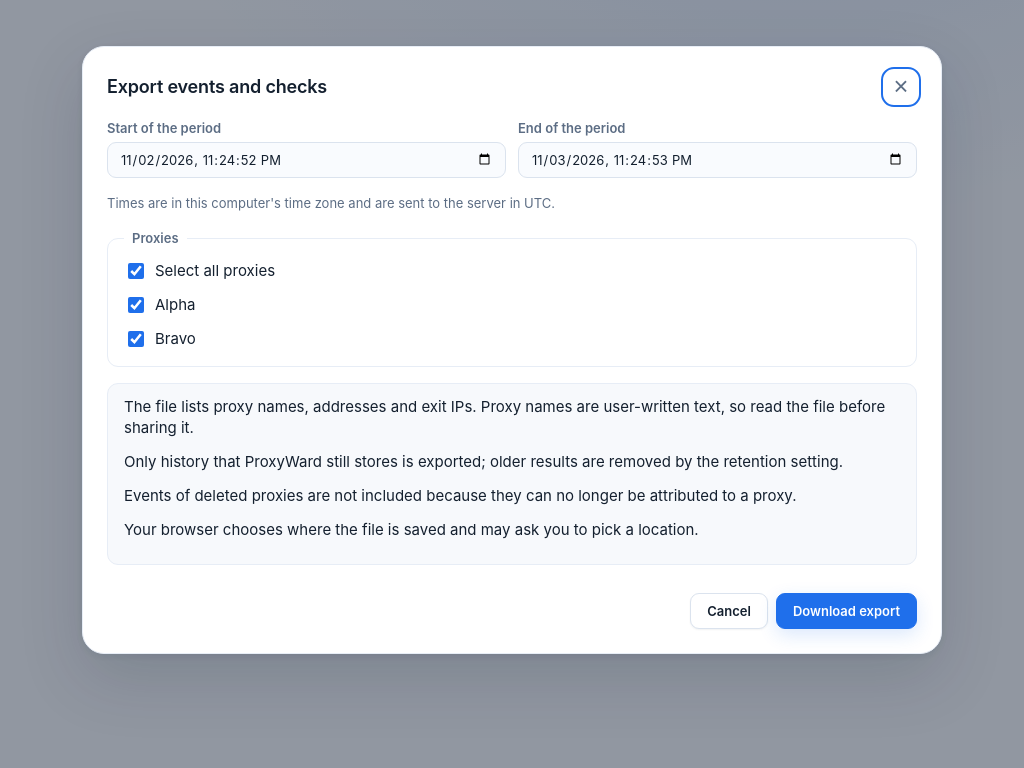
Test: ExportDialog › refuses an empty proxy selection and an invalid period
Click the checkbox labelled "Select all proxies" at [136, 271], box [128,263,144,279]
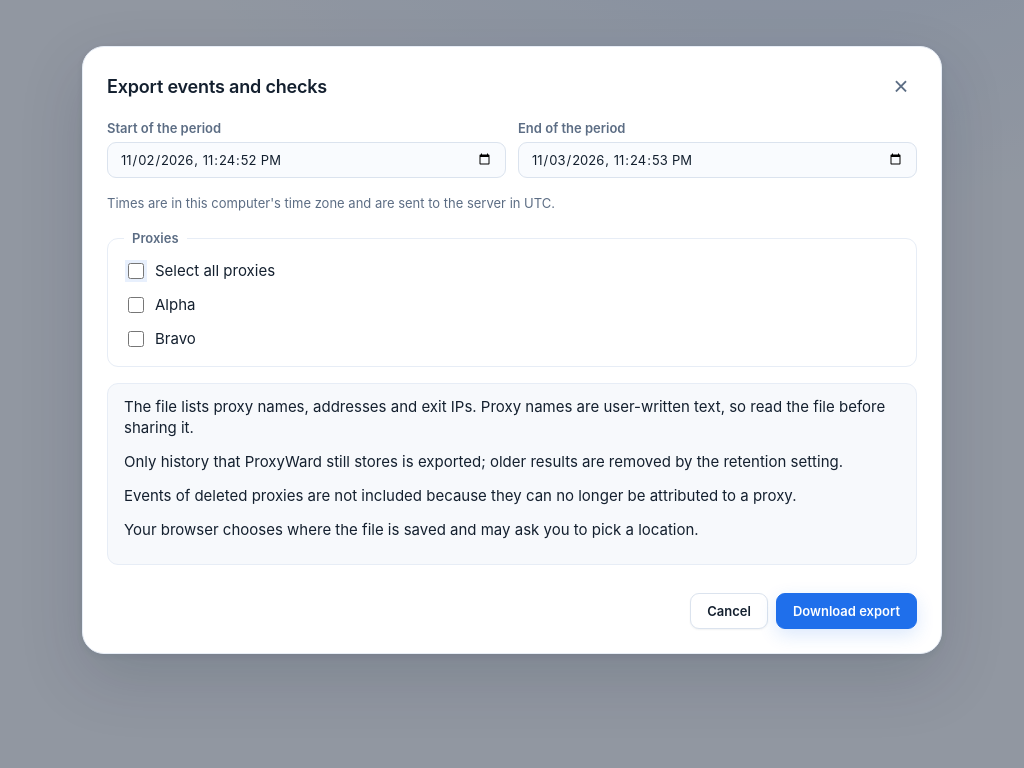
Click the button "Download export" at [846, 611], box [776,593,917,629]
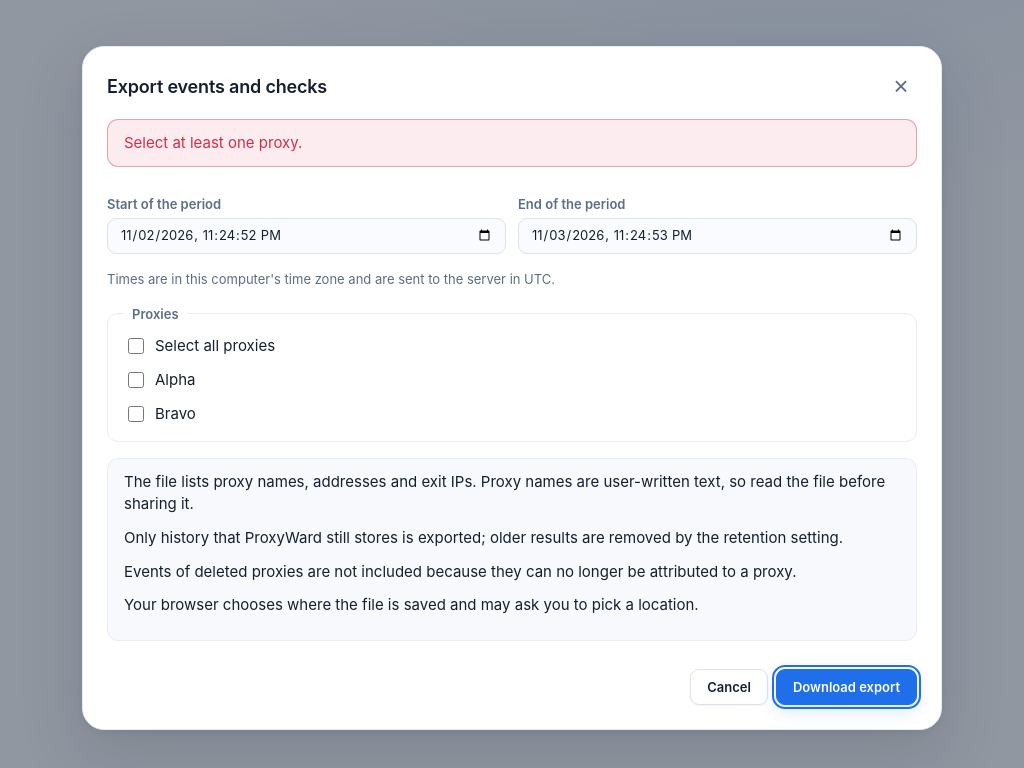
Expected: the message reads "Select at least one proxy.", [124,133,302,152]
Click the checkbox labelled "Select all proxies" at [136, 346], box [128,338,144,354]
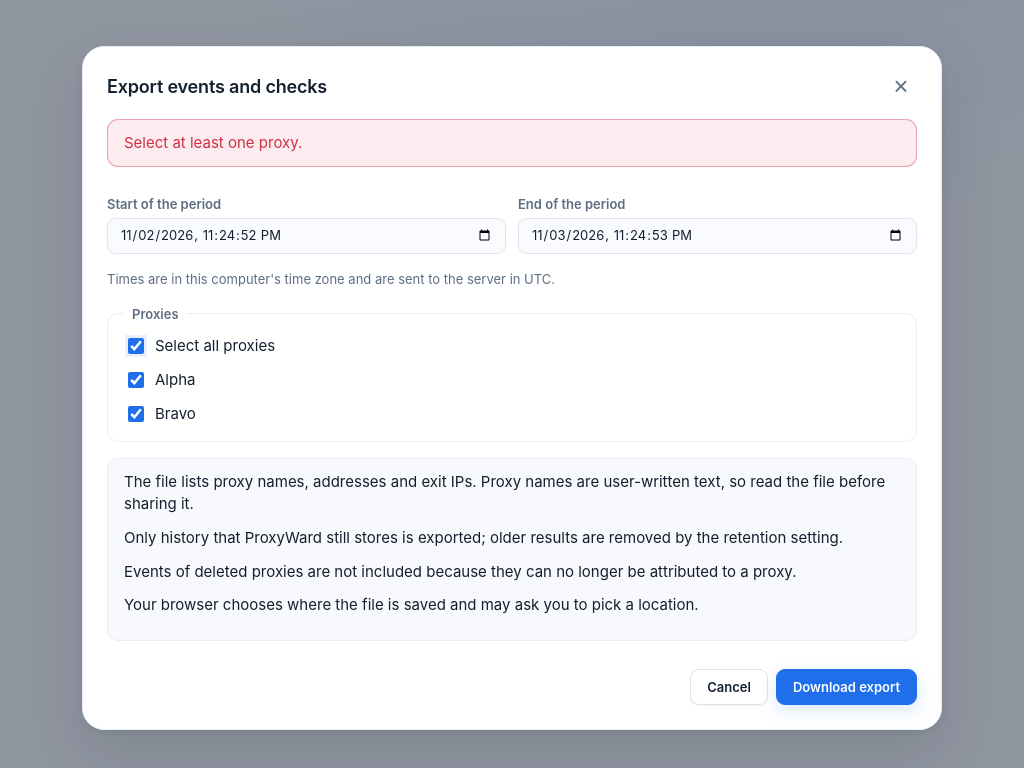
Replace the text in the field labelled "Start of the period" with "2026-05-02T09:00" at [306, 236], box [107,218,506,254]
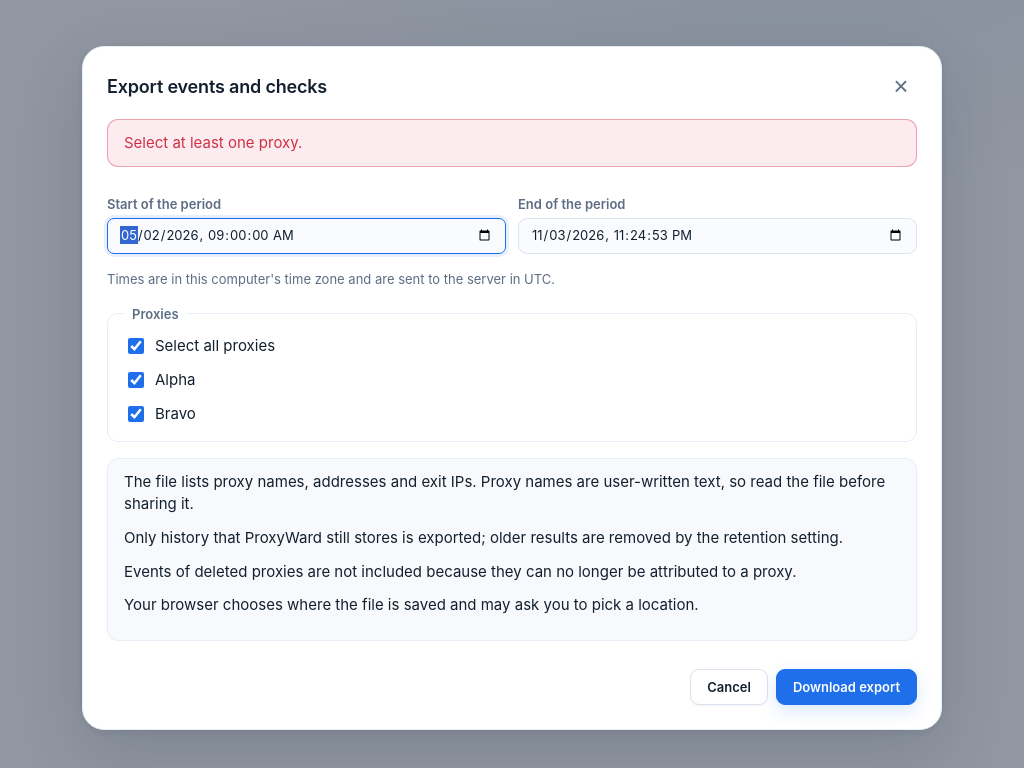
Replace the text in the field labelled "End of the period" with "2026-05-01T09:00" at [718, 236], box [518,218,917,254]
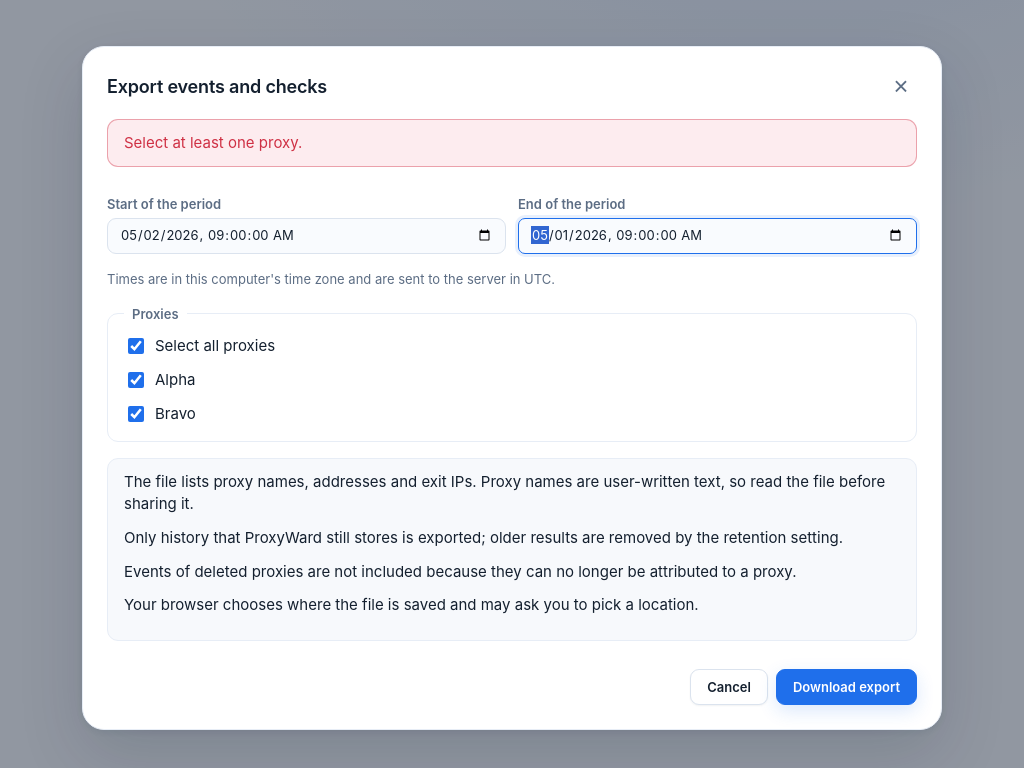
Click the button "Download export" at [846, 687], box [776,669,917,705]
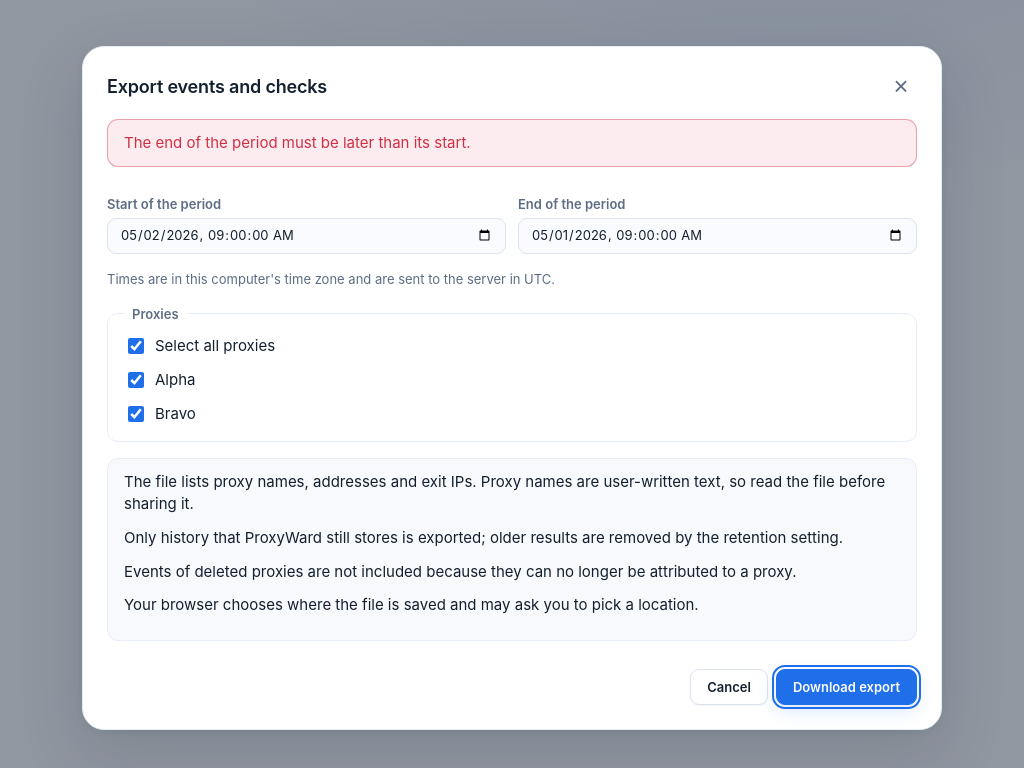
Expected: the message reads "The end of the period must be later than its start.", [124,133,471,152]
